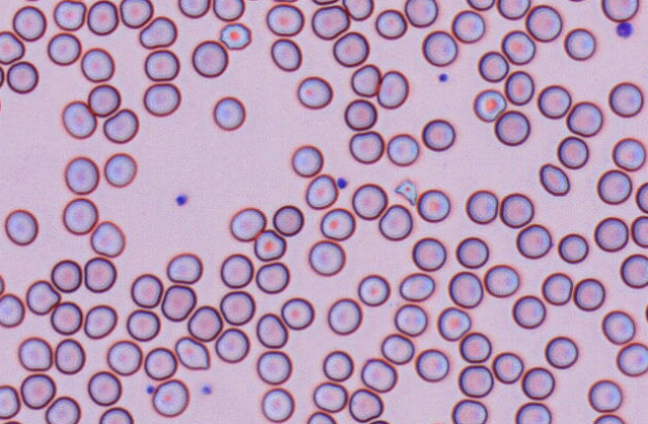PLT: (614, 19, 634, 38), (176, 193, 190, 207), (336, 176, 350, 189), (201, 384, 213, 396), (438, 72, 451, 83), (146, 385, 153, 393)
RBC: (151, 378, 189, 417), (191, 39, 228, 77), (525, 4, 562, 41), (308, 239, 345, 276), (566, 100, 603, 137), (351, 182, 387, 220), (61, 100, 96, 139), (64, 155, 99, 194), (332, 31, 369, 67), (515, 223, 552, 259), (62, 197, 98, 234), (327, 297, 362, 335), (311, 4, 349, 39), (448, 270, 483, 308), (106, 339, 142, 375), (421, 30, 457, 66), (596, 168, 632, 204), (494, 109, 530, 145), (360, 357, 397, 392), (187, 304, 222, 341), (161, 284, 196, 321), (229, 206, 266, 241), (90, 220, 125, 257), (143, 82, 181, 116), (138, 15, 177, 48), (265, 3, 304, 36), (376, 69, 408, 109), (25, 279, 60, 315), (20, 373, 55, 409), (214, 327, 249, 363), (103, 108, 139, 143), (219, 290, 255, 325), (608, 81, 643, 117), (499, 192, 534, 228), (593, 216, 628, 252), (4, 208, 38, 245), (511, 294, 546, 329), (411, 236, 446, 271), (17, 336, 52, 371), (174, 336, 210, 370), (12, 5, 46, 41), (87, 370, 121, 406), (256, 350, 292, 384), (501, 29, 535, 65), (601, 309, 635, 345), (378, 204, 412, 240), (296, 75, 332, 109), (348, 130, 384, 164), (83, 256, 116, 293), (260, 387, 294, 422), (348, 388, 383, 422), (437, 306, 471, 341), (414, 348, 449, 382), (587, 378, 622, 412), (80, 47, 114, 82), (219, 253, 253, 288), (83, 304, 117, 339), (537, 84, 571, 119), (103, 152, 137, 187), (255, 312, 288, 348), (457, 364, 493, 397), (319, 207, 355, 240), (305, 173, 338, 209), (483, 264, 519, 297), (166, 252, 203, 284), (472, 88, 506, 122), (143, 346, 177, 380), (544, 335, 578, 369), (451, 9, 485, 43), (416, 188, 450, 222), (612, 137, 646, 171), (255, 261, 290, 294), (130, 273, 163, 308), (212, 96, 245, 131), (465, 189, 498, 224), (47, 32, 81, 65), (126, 308, 160, 341), (521, 366, 555, 399), (280, 297, 314, 330), (556, 135, 589, 169), (421, 118, 455, 151), (86, 0, 118, 35), (144, 49, 179, 81), (54, 338, 85, 374), (394, 303, 427, 336), (357, 273, 390, 306), (87, 83, 120, 116), (290, 144, 323, 177), (563, 27, 596, 60), (386, 133, 419, 166), (6, 60, 38, 94), (50, 301, 82, 335), (538, 162, 570, 196), (573, 277, 605, 311), (50, 259, 82, 293), (312, 381, 347, 412), (503, 70, 534, 105), (253, 229, 286, 261), (270, 38, 302, 71), (491, 351, 523, 384), (344, 98, 377, 130), (455, 236, 488, 268), (350, 63, 381, 97), (616, 342, 647, 376), (380, 333, 414, 364), (398, 272, 434, 301), (459, 331, 491, 363), (477, 50, 509, 82), (272, 204, 304, 236), (541, 272, 572, 305), (44, 395, 80, 423), (375, 8, 407, 39), (53, 0, 86, 30), (322, 350, 353, 381), (557, 232, 588, 263), (119, 0, 153, 28), (620, 253, 647, 288), (451, 398, 487, 423), (219, 22, 251, 50), (404, 0, 437, 27), (0, 292, 25, 327), (0, 30, 25, 64), (601, 0, 639, 22), (514, 401, 551, 423), (0, 384, 20, 419), (212, 0, 244, 21), (497, 0, 530, 19), (342, 0, 373, 20), (177, 0, 210, 18), (99, 406, 133, 423), (630, 215, 647, 248), (306, 410, 336, 423), (635, 181, 647, 213), (592, 413, 625, 423), (466, 0, 495, 10), (311, 0, 339, 5), (0, 63, 5, 88), (0, 273, 5, 295), (2, 419, 22, 424), (644, 302, 648, 323), (271, 0, 299, 3), (243, 0, 265, 2), (20, 0, 43, 1)
Schistocyte: (394, 179, 419, 206)
